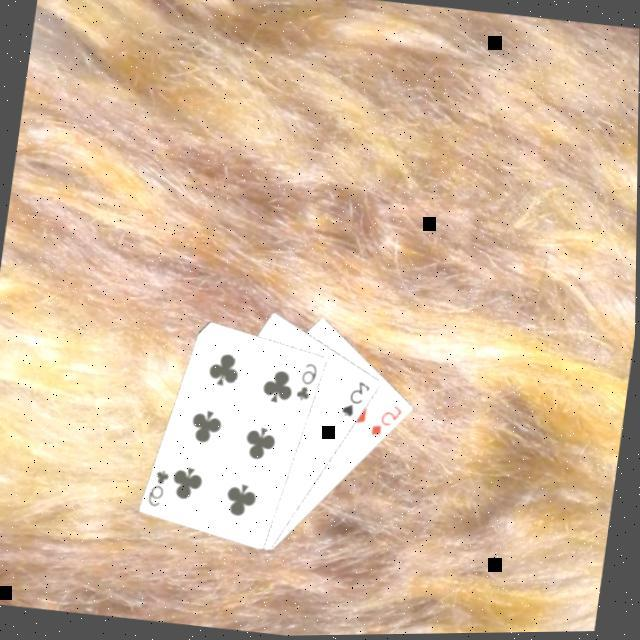3S: (340, 378, 377, 423)
5D: (369, 401, 408, 444)
6C: (146, 465, 176, 512), (295, 360, 324, 406)
